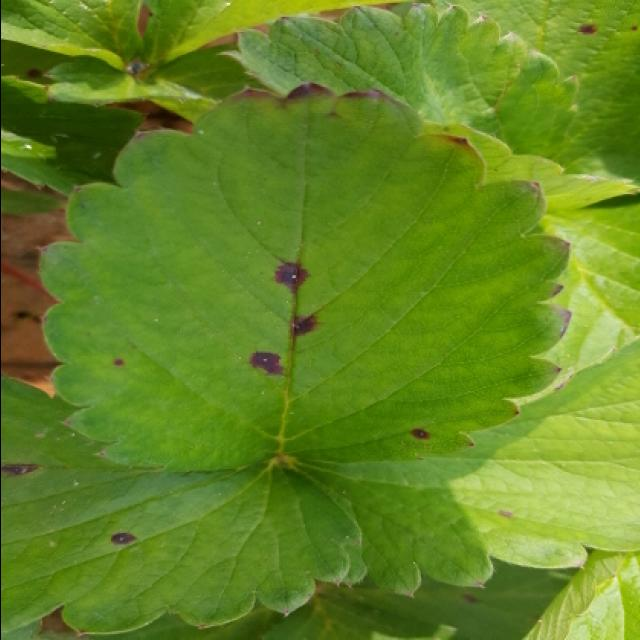Leaf Spot: (37, 82, 571, 474), (2, 374, 363, 638), (285, 336, 640, 600), (411, 2, 640, 180), (318, 557, 578, 640), (2, 38, 70, 87)
